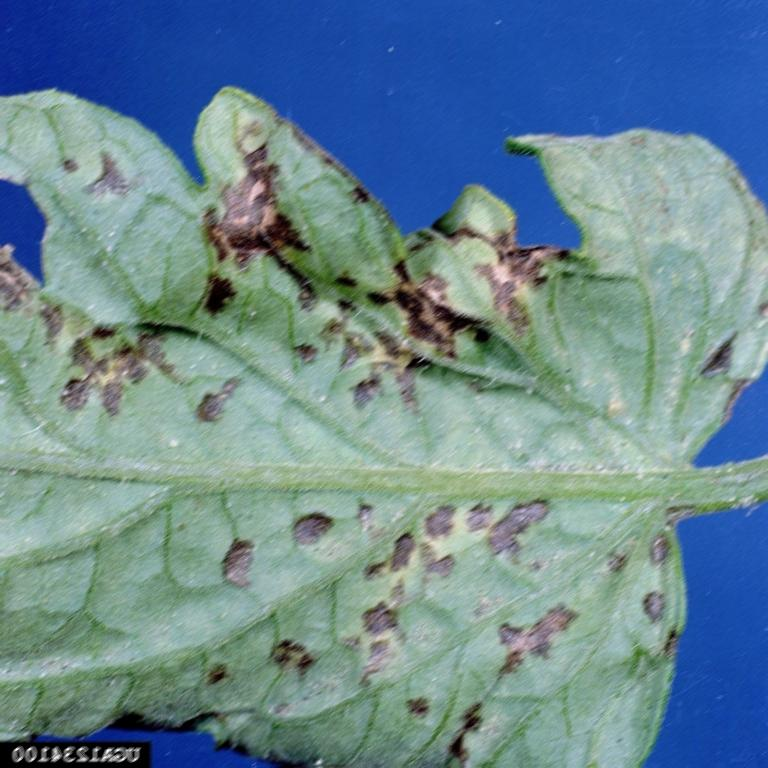Tomato leaf bacterial spot: (0, 104, 760, 758)
